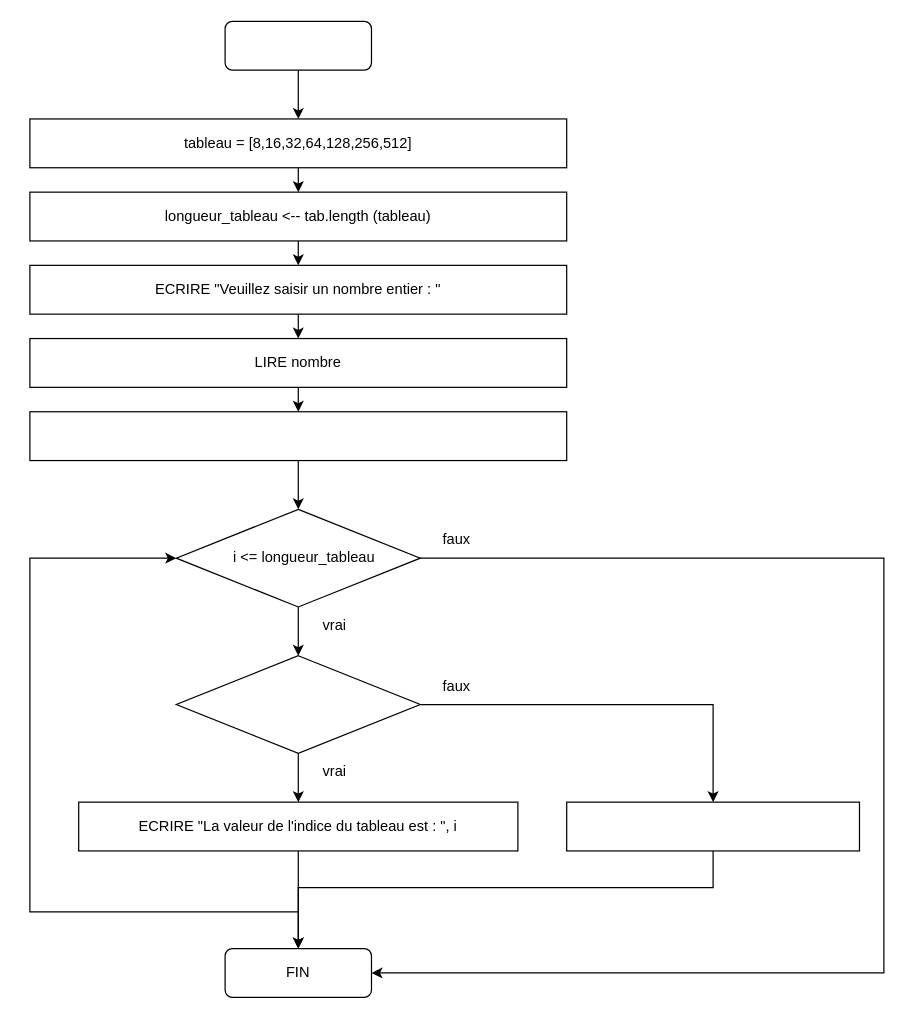
Some shapes in this 915 by 1019 pixel diagram are drawn without their labels. The shapes that lost their labels are listed below. From the top down, each one's centre as x and y in pixels, then its label:
(297,45): DEBUT
(298,436): i = 0
(297,704): tableau[i] = nombre
(712,826): ECRIRE "Nombre non trouvé"
